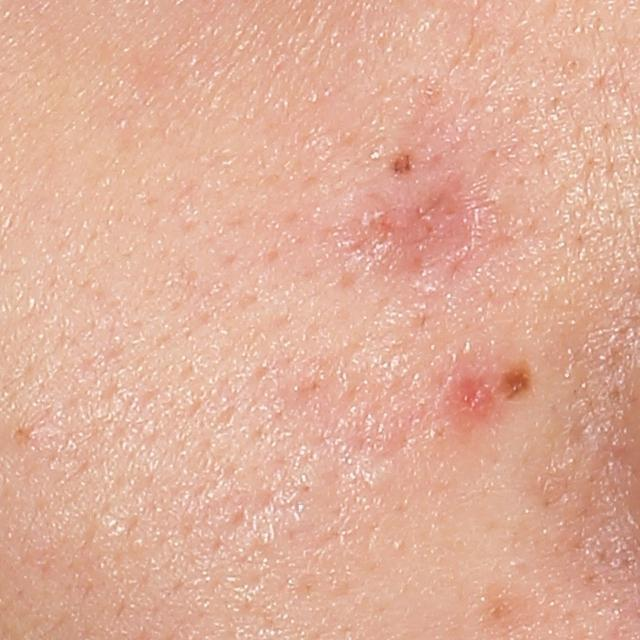nevus: (500, 365, 532, 397), (386, 151, 414, 180)
